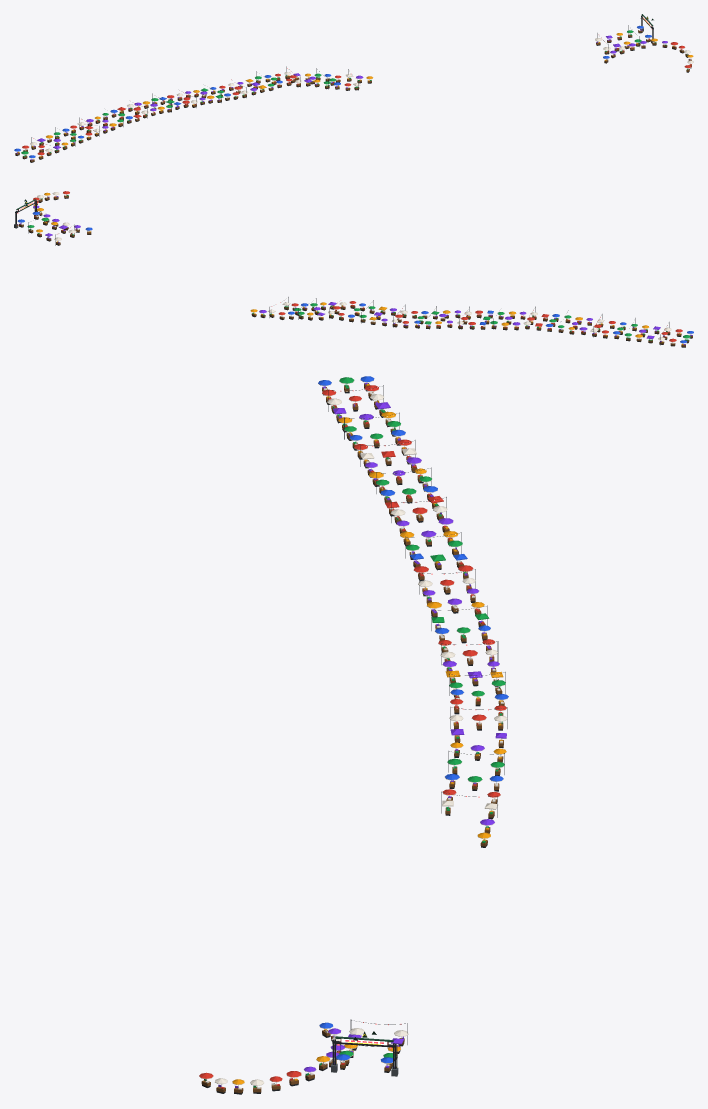
The model's file is ul_w1_01_cho_dem_gates_and_canopy_stalls.glb.
3 views of the same model, one above another, from view 1: azimuth 30°, elevation 25°; view 2: azimuth 150°, elevation 25°; view 3: azimuth 270°, elevation 25° (orthographic). The views are drawn at different scales.
Parts seen in each view (by area): view 1: Stall_Counters__Dalat_PineWood, Stall_SkirtBase__Wrought_Iron_Dark, Stall_Valance__Canopy_Ivory, Stall_Canopies__Canopy_Violet, Stall_Canopies__Canopy_Crimson, Stall_Canopies__Canopy_Emerald, Stall_Canopies__Canopy_Ivory, Stall_Canopies__Canopy_Cobalt, Stall_Canopies__Canopy_Marigold; view 2: Stall_Counters__Dalat_PineWood, Stall_SkirtBase__Wrought_Iron_Dark, Stall_Valance__Canopy_Ivory, Stall_Canopies__Canopy_Violet, Stall_Canopies__Canopy_Crimson, Stall_Canopies__Canopy_Emerald, Stall_Canopies__Canopy_Ivory, Stall_Canopies__Canopy_Cobalt, Stall_Canopies__Canopy_Marigold; view 3: Stall_Counters__Dalat_PineWood, Stall_Valance__Canopy_Ivory, Stall_Canopies__Canopy_Violet, Stall_Canopies__Canopy_Crimson, Stall_Canopies__Canopy_Emerald, Stall_Canopies__Canopy_Ivory, Stall_Canopies__Canopy_Cobalt, Stall_Canopies__Canopy_Marigold, Stall_SkirtBase__Wrought_Iron_Dark.
Part boxes in pixels (x1,y1,x2,y2): Stall_Counters__Dalat_PineWood: [15, 30, 691, 161]; Stall_SkirtBase__Wrought_Iron_Dark: [15, 32, 691, 162]; Stall_Valance__Canopy_Ivory: [16, 28, 693, 158]; Stall_Canopies__Canopy_Violet: [37, 35, 667, 148]; Stall_Canopies__Canopy_Crimson: [22, 42, 691, 154]; Stall_Canopies__Canopy_Emerald: [21, 30, 641, 154]; Stall_Canopies__Canopy_Ivory: [30, 38, 693, 151]; Stall_Canopies__Canopy_Cobalt: [14, 25, 651, 157]; Stall_Canopies__Canopy_Marigold: [46, 33, 693, 145]; Stall_Counters__Dalat_PineWood: [19, 195, 692, 346]; Stall_SkirtBase__Wrought_Iron_Dark: [19, 197, 692, 347]; Stall_Valance__Canopy_Ivory: [18, 193, 693, 343]; Stall_Canopies__Canopy_Violet: [33, 205, 660, 338]; Stall_Canopies__Canopy_Crimson: [33, 191, 682, 341]; Stall_Canopies__Canopy_Emerald: [27, 217, 690, 338]; Stall_Canopies__Canopy_Ivory: [37, 192, 671, 340]; Stall_Canopies__Canopy_Cobalt: [18, 211, 693, 343]; Stall_Canopies__Canopy_Marigold: [36, 192, 648, 337]; Stall_Counters__Dalat_PineWood: [201, 383, 504, 1093]; Stall_Valance__Canopy_Ivory: [199, 379, 508, 1085]; Stall_Canopies__Canopy_Violet: [304, 402, 506, 1071]; Stall_Canopies__Canopy_Crimson: [199, 385, 506, 1081]; Stall_Canopies__Canopy_Emerald: [339, 377, 505, 1057]; Stall_Canopies__Canopy_Ivory: [215, 394, 507, 1085]; Stall_Canopies__Canopy_Cobalt: [318, 376, 508, 1063]; Stall_Canopies__Canopy_Marigold: [232, 411, 506, 1084]; Stall_SkirtBase__Wrought_Iron_Dark: [202, 387, 503, 1094].
Size of the model in its own units: 337 by 26.68 by 69.83.
